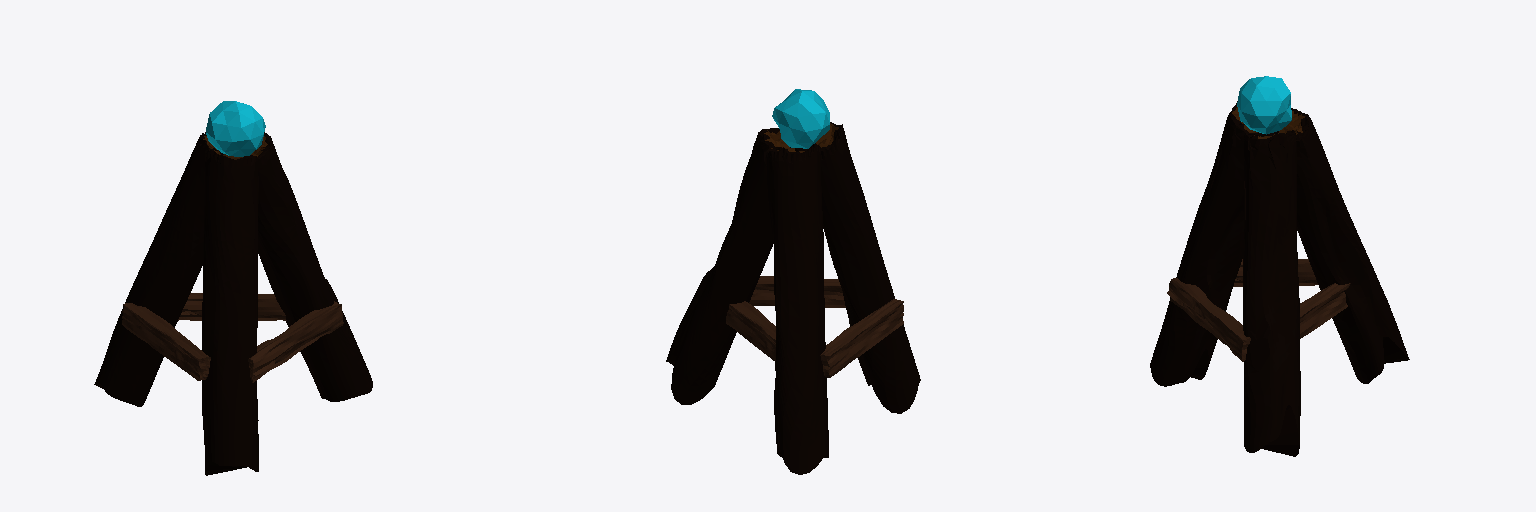
Rendered from orb.obj.
3 views of the same model, side by side, from view 1: azimuth 30°, elevation 25°; view 2: azimuth 150°, elevation 25°; view 3: azimuth 270°, elevation 25° (orthographic).
Parts seen in each view (by area): view 1: Cylinder_Cylinder.003, Cylinder.002_Cylinder.005, Cylinder.001_Cylinder.004, Cube.010, Cube.001_Cube.004, Icosphere, Cube.002_Cube.005; view 2: Cylinder.001_Cylinder.004, Cylinder_Cylinder.003, Cylinder.002_Cylinder.005, Cube.010, Icosphere, Cube.002_Cube.005, Cube.001_Cube.004; view 3: Cylinder.002_Cylinder.005, Cylinder.001_Cylinder.004, Cylinder_Cylinder.003, Icosphere, Cube.001_Cube.004, Cube.002_Cube.005, Cube.010.
Part boxes in pixels (x1,y1,x2,y2): Cylinder_Cylinder.003: (202,148,258,475); Cylinder.002_Cylinder.005: (251,132,372,401); Cylinder.001_Cylinder.004: (94,132,216,406); Cube.010: (122,303,210,380); Cube.001_Cube.004: (248,301,343,382); Icosphere: (206,101,265,156); Cube.002_Cube.005: (178,293,286,320); Cylinder.001_Cylinder.004: (764,143,828,474); Cylinder_Cylinder.003: (790,122,920,413); Cylinder.002_Cylinder.005: (666,128,795,404); Cube.010: (820,299,903,377); Icosphere: (772,89,829,148); Cube.002_Cube.005: (726,301,775,360); Cube.001_Cube.004: (749,276,845,307); Cylinder.002_Cylinder.005: (1243,130,1300,456); Cylinder.001_Cylinder.004: (1278,108,1409,383); Cylinder_Cylinder.003: (1150,101,1278,386); Icosphere: (1237,76,1291,134); Cube.001_Cube.004: (1167,278,1250,361); Cube.002_Cube.005: (1300,283,1350,338); Cube.010: (1233,259,1317,286).
Size of the model in its own units: 7.96 by 11.92 by 8.42.